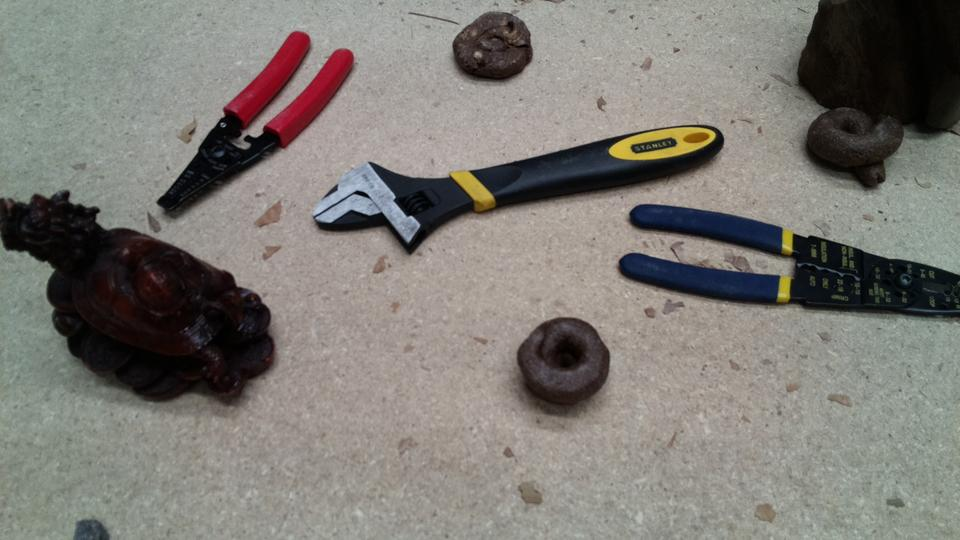poop: (513, 314, 615, 411), (803, 105, 907, 190), (449, 7, 538, 82)
